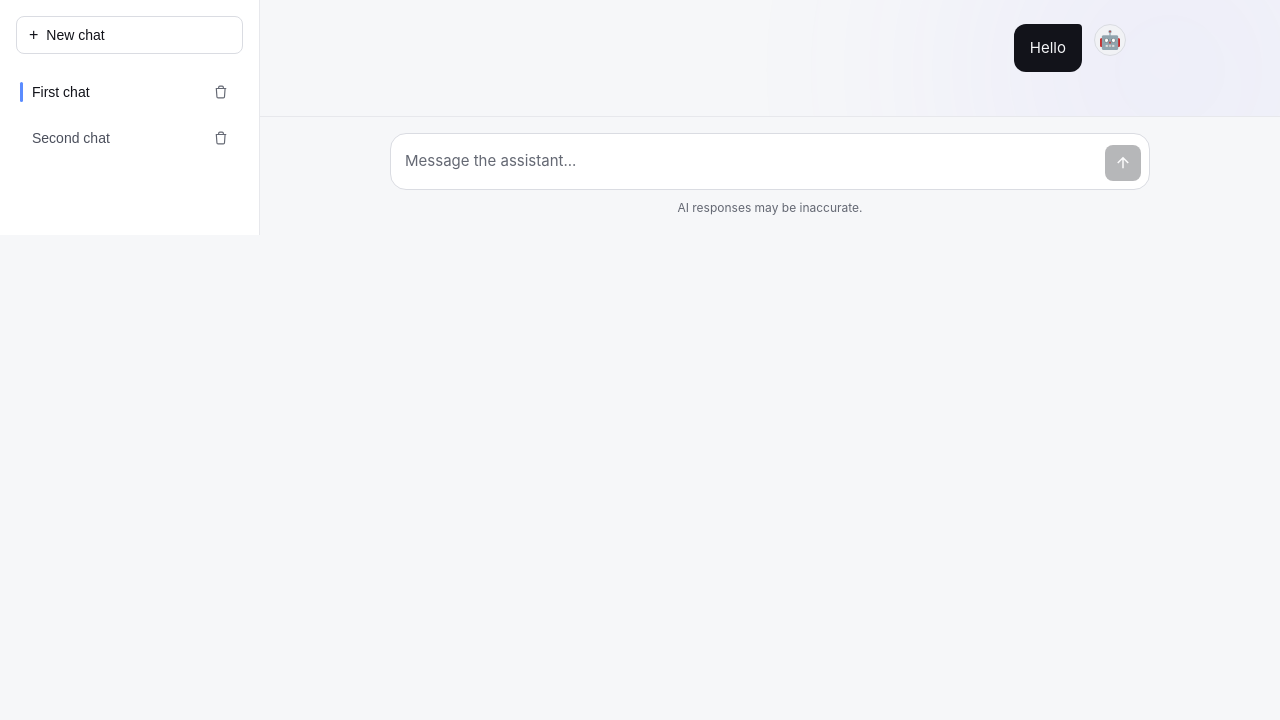
Assistant — deleting conversations › switches to the next conversation when the active one is deleted
This screenshot has width=1280, height=720.
Check: the text "Hello" is shown, box [1014,24,1082,72]
Click the button named "Delete First chat" at (221, 92), box [199,70,243,114]
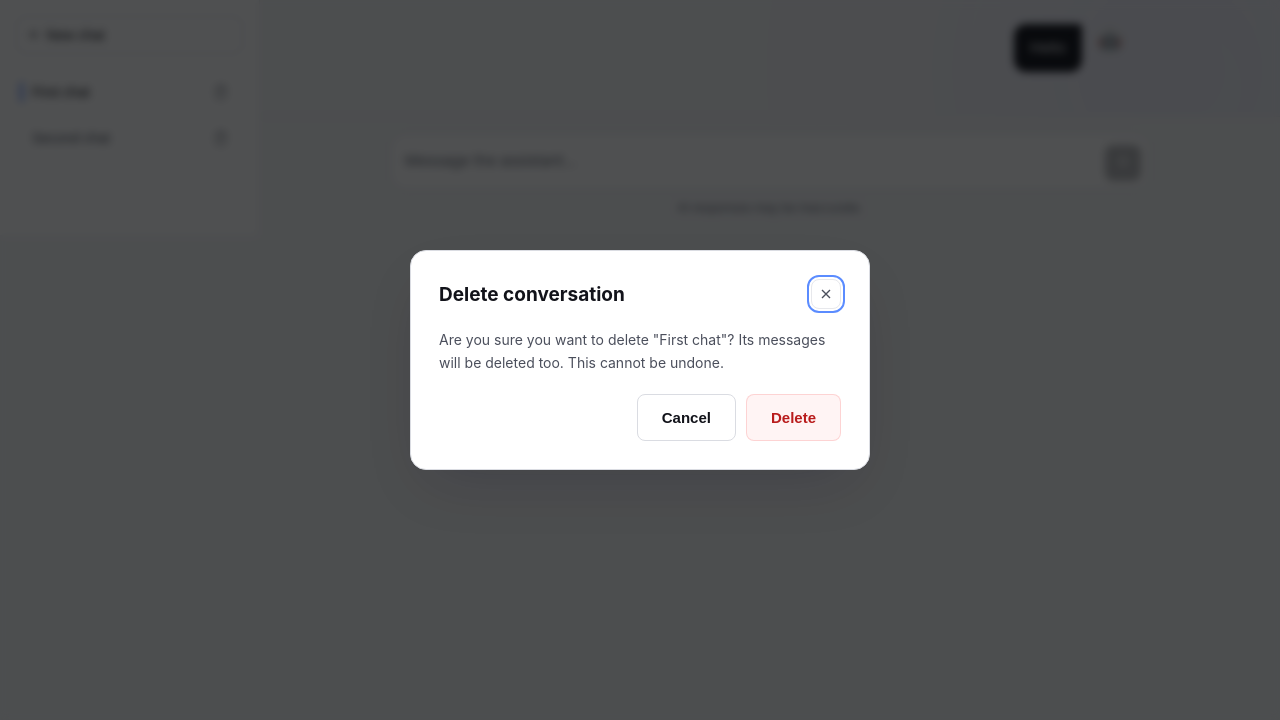
Click the button "Delete" at (794, 417), box [746,394,841,441]
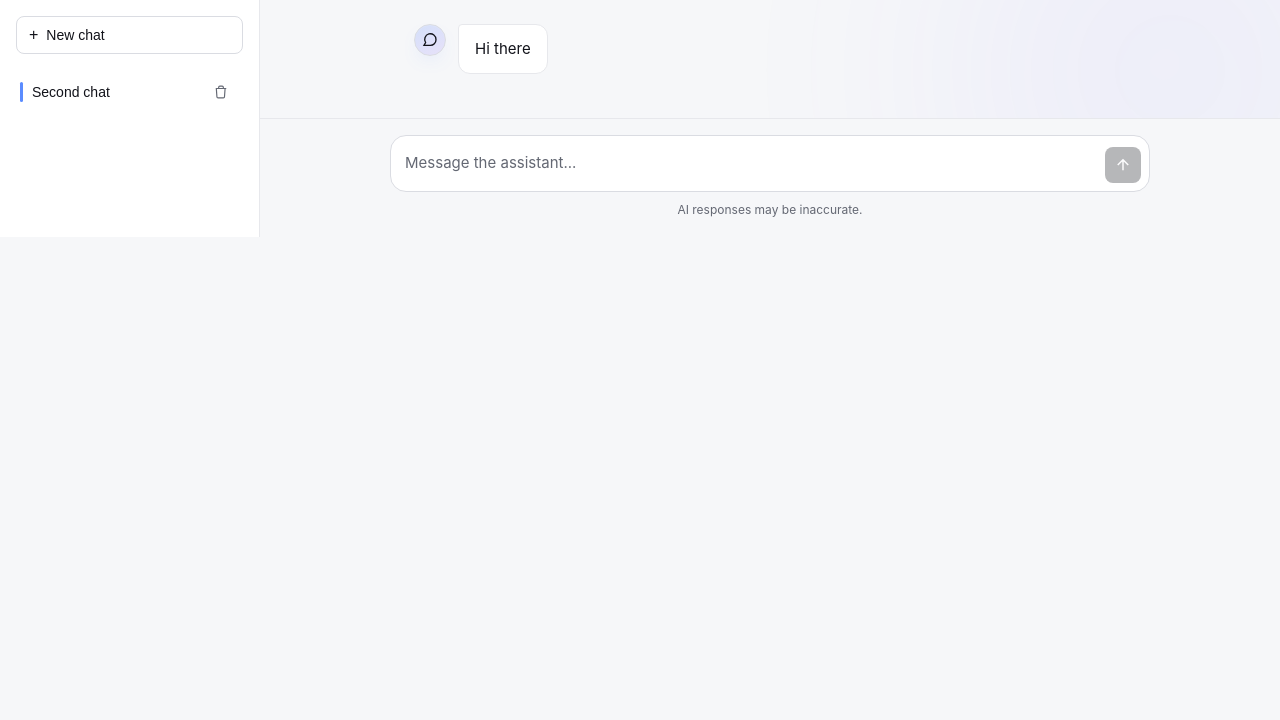
Check: the text "Hi there" is shown, box [458,24,548,74]
Check: the button "First chat" is gone
Check: the text "Hello" is gone
